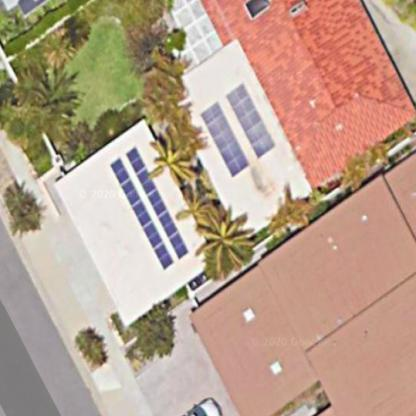solar_panel: (104, 130, 194, 276), (200, 78, 276, 180)
